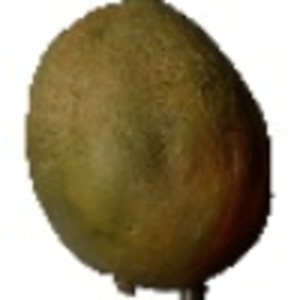mamão: (22, 2, 276, 290)
